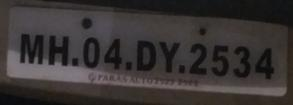0: (83, 34, 102, 70)
2: (188, 39, 209, 78)
3: (232, 44, 253, 80)
4: (255, 47, 279, 81), (103, 36, 126, 69)
5: (210, 43, 233, 77)
D: (134, 36, 158, 74)
H: (48, 31, 71, 68)
M: (17, 30, 46, 68)
Y: (157, 39, 183, 72)
